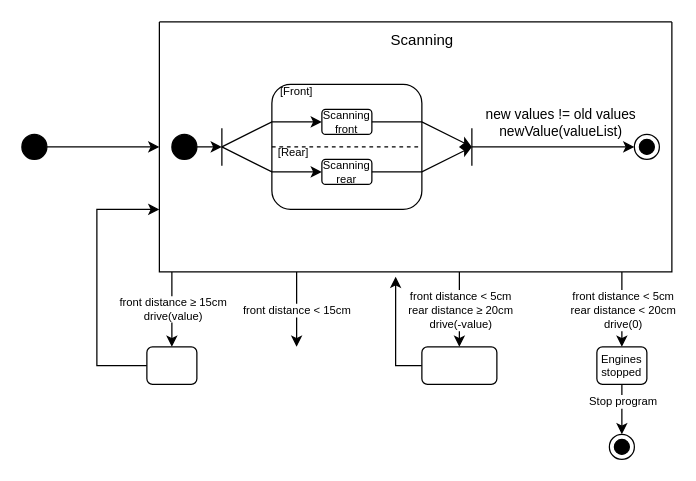
This 696x481 diagram has some shape labels left out. Here are the shapes that lost their labels. From the top down, the centre of each, then its label:
At (171,365): "Drive forwards".
At (459,365): "Drive backwards".
